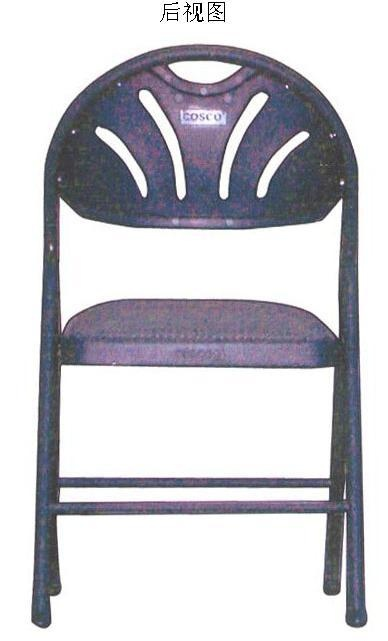obstacle: (32, 45, 366, 626)
